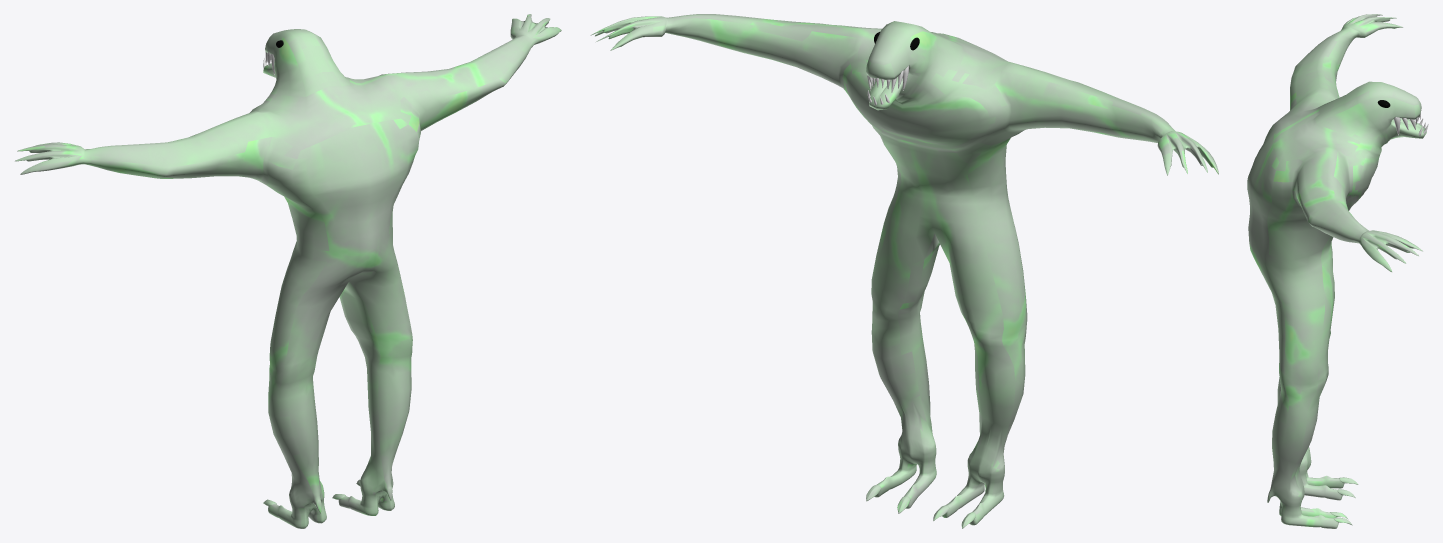
Rendered from Berserkeraranar.0006.obj.
3 views of the same model, side by side, from view 1: azimuth 30°, elevation 25°; view 2: azimuth 150°, elevation 25°; view 3: azimuth 270°, elevation 25° (orthographic). The views are drawn at different scales.
Parts seen in each view (by area): view 1: polySurface27; view 2: polySurface27; view 3: polySurface27.
Boxes of the visible parts, left/top/right/bottom form: polySurface27: left=15, top=14, right=561, bottom=528; polySurface27: left=590, top=14, right=1218, bottom=528; polySurface27: left=1247, top=14, right=1428, bottom=528.
Size of the model in its own units: 30.35 by 24.1 by 9.27.
1 material, 1 textured.
